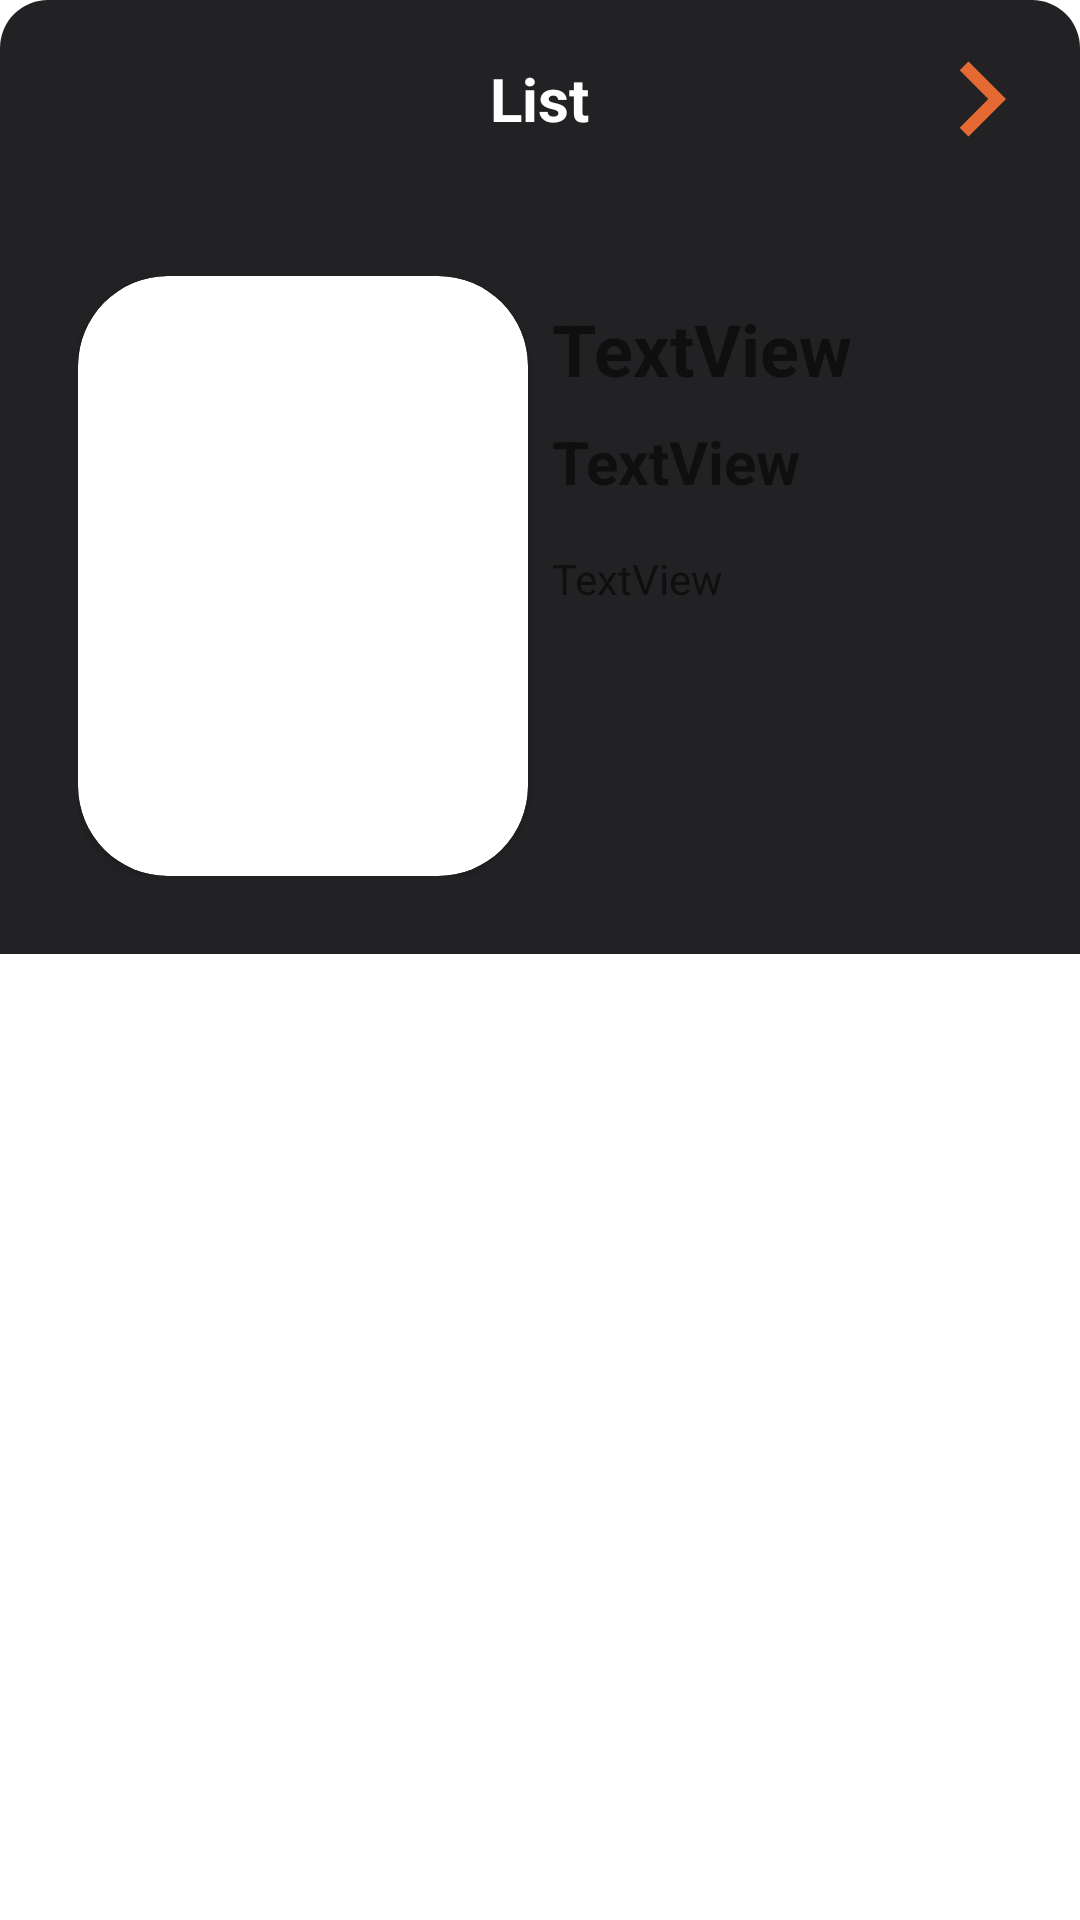

Named icons in this screenshot (1080 x 1920) and their centers, (x,y):
next: (1020,68)
